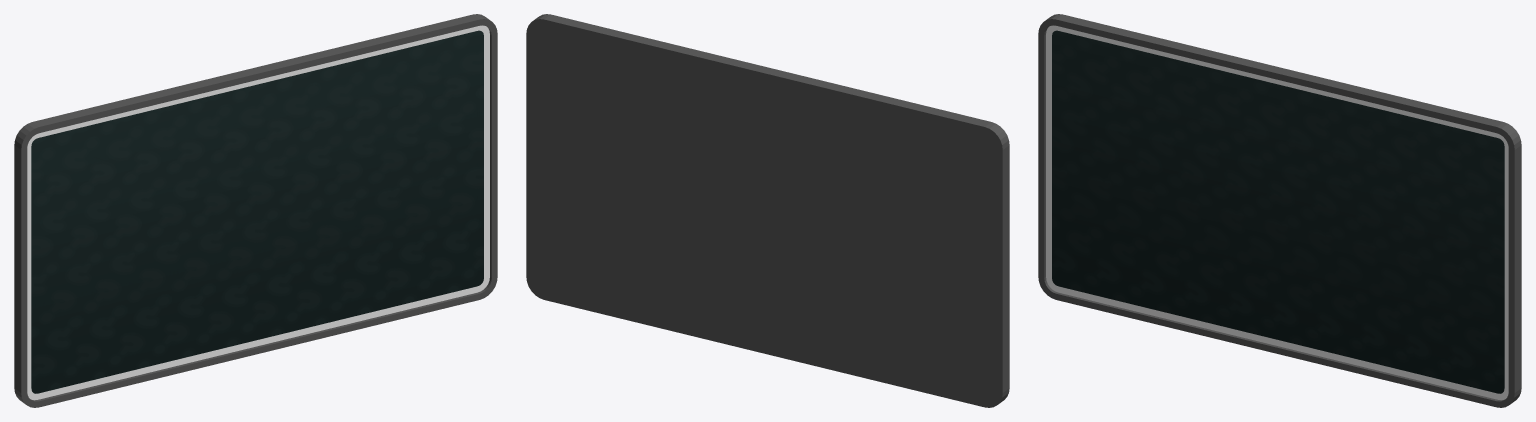
The model's file is screen.glb.
The picture shows the model from 3 angles, left to right: view 1: azimuth 30°, elevation 25°; view 2: azimuth 150°, elevation 25°; view 3: azimuth 330°, elevation 25°; orthographic projection.
Visible parts, largest first — view 1: screen, edge, border; view 2: edge; view 3: screen, edge, border.
Part boxes in pixels (x1=…): screen: x1=31, y1=30, x2=483, y2=393; edge: x1=14, y1=14, x2=497, y2=407; border: x1=27, y1=25, x2=489, y2=400; edge: x1=526, y1=14, x2=1009, y2=407; screen: x1=1052, y1=30, x2=1504, y2=393; edge: x1=1038, y1=14, x2=1521, y2=407; border: x1=1046, y1=25, x2=1508, y2=400.
Size of the model in its own units: 8 by 4.5 by 0.2.
Materials: 3 (2 with a texture image).
